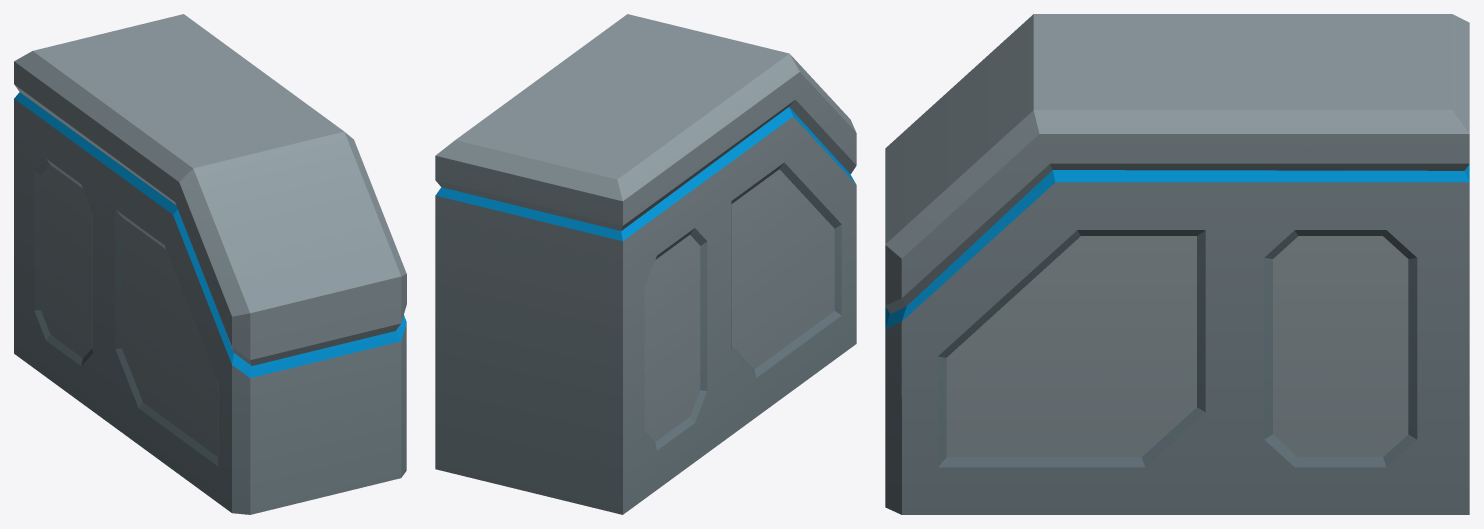
The picture shows the model from 3 angles, left to right: view 1: azimuth 30°, elevation 25°; view 2: azimuth 150°, elevation 25°; view 3: azimuth 270°, elevation 25°; orthographic projection. The views are drawn at different scales.
Visible parts, largest first — view 1: Box_003; view 2: Box_003; view 3: Box_003.
Part boxes in pixels (bbox=[...]): Box_003: bbox=[14, 14, 406, 514]; Box_003: bbox=[435, 14, 856, 514]; Box_003: bbox=[885, 14, 1469, 514].
Size of the model in its own units: 45 by 100 by 75.
